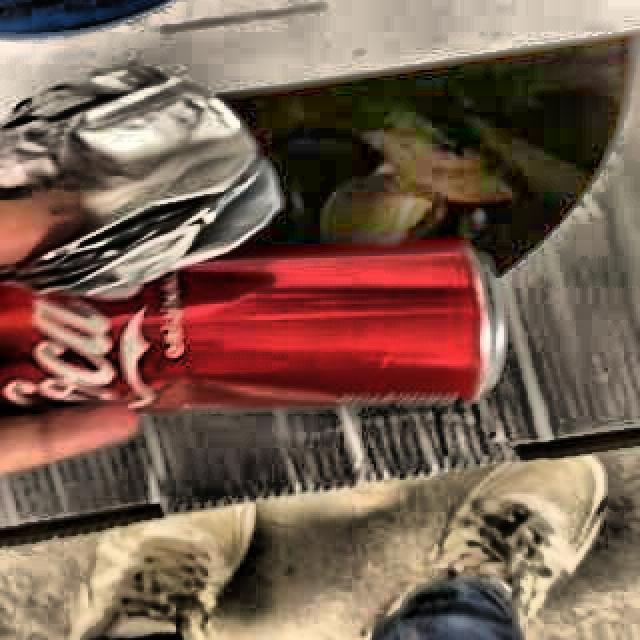metal: (0, 246, 504, 412)
